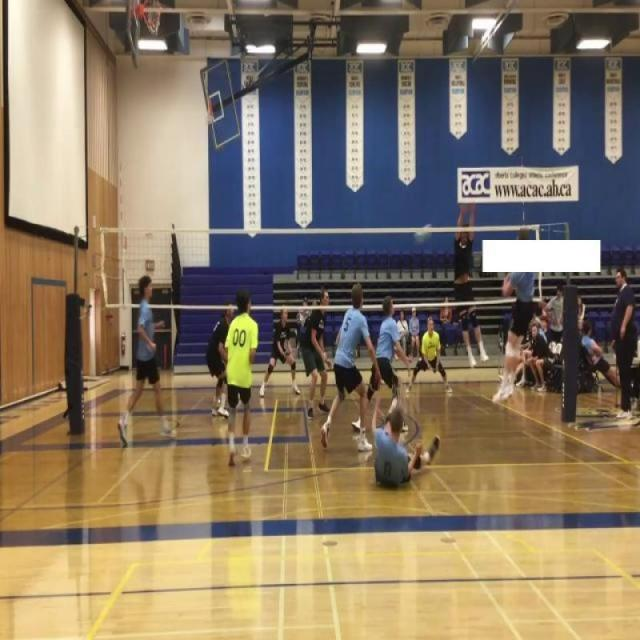volleyball: (413, 223, 432, 243)
